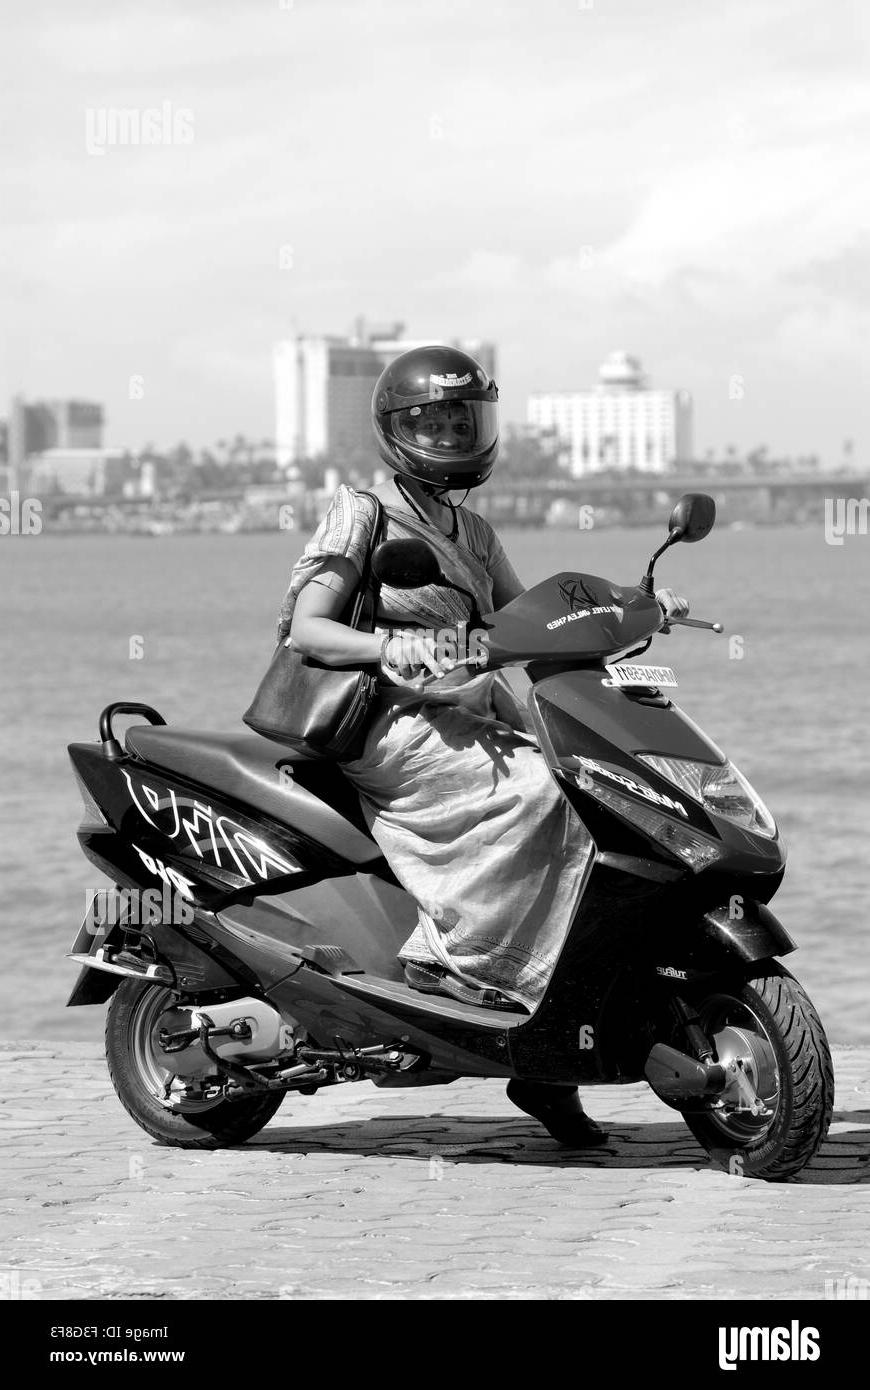Helmet: (372, 345, 499, 494)
